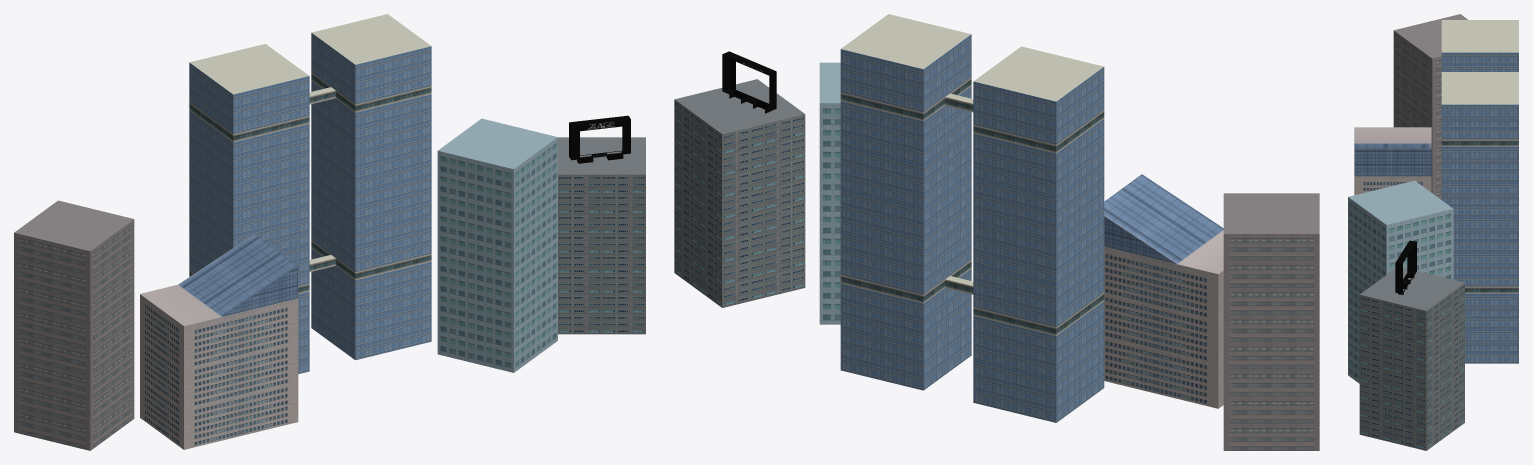
File: stage2.fbx
3 renders of one model, left to right at view 1: azimuth 30°, elevation 25°; view 2: azimuth 150°, elevation 25°; view 3: azimuth 270°, elevation 25°, orthographic. The views are drawn at different scales.
Parts seen in each view (by area): view 1: polymsh1, cube3; view 2: polymsh1, cube3; view 3: polymsh1, cube3.
Part boxes in pixels (<box>): polymsh1: <box>14,14,645,450</box>; cube3: <box>569,115,630,163</box>; polymsh1: <box>674,14,1319,450</box>; cube3: <box>722,51,776,113</box>; polymsh1: <box>1348,14,1518,450</box>; cube3: <box>1395,240,1416,294</box>.
Size of the model in its own units: 722 by 333 by 199.
